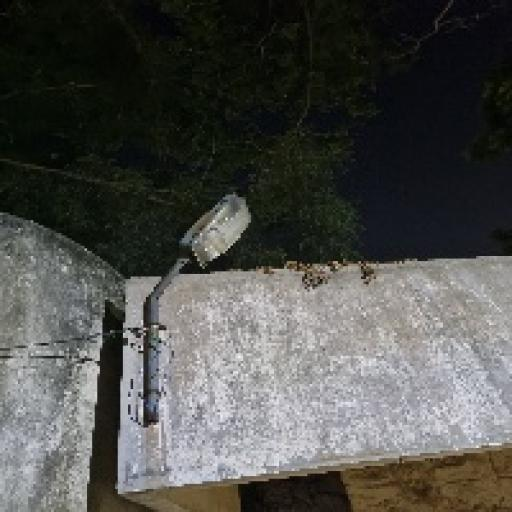Not Working: (166, 179, 264, 276)
